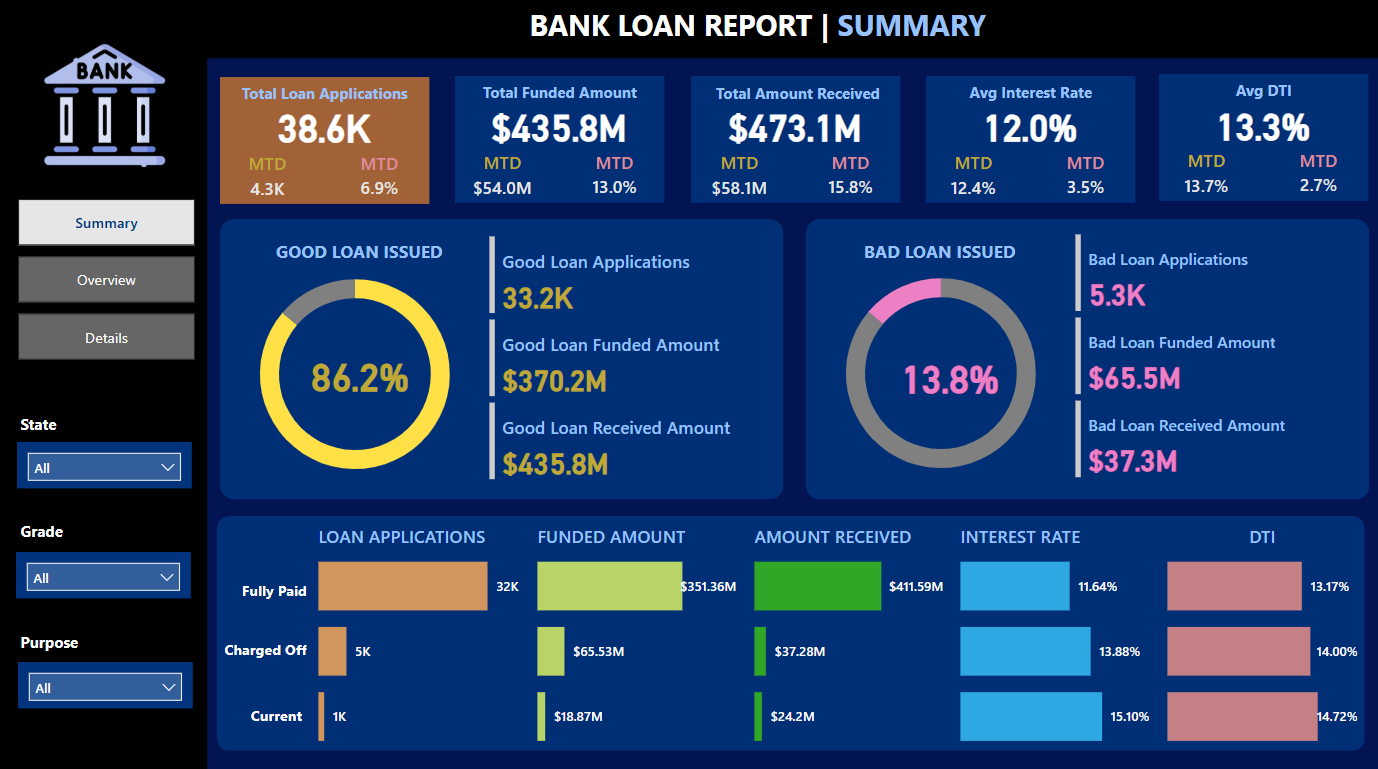

The page's visual inventory and layout, read from the dashboard file:
{"tool":"powerbi","page":{"name":"Summary","canvas":[1280,720],"ordinal":0},"visuals":[{"type":"shape","box":[1074,69.9,194.2,117.6],"z":0,"group":"g5"},{"type":"shape","box":[857.6,71,194.2,117.6],"z":0,"group":"g4"},{"type":"shape","box":[421.8,71.5,194.2,117.6],"z":0,"group":"g2"},{"type":"shape","box":[640.2,71.5,194.2,117.6],"z":0,"group":"g3"},{"type":"shape","box":[203.9,72.1,194.2,117.6],"z":0,"group":"g1"},{"type":"textbox","box":[14,478,104.7,34.9],"z":0,"group":"g7"},{"type":"shape","box":[201.3,479.4,1063.6,217.6],"z":0},{"type":"textbox","box":[13.6,581.2,83.8,32.6],"z":0,"group":"g8"},{"type":"shape","box":[0,54.9,192.3,664.7],"z":1000},{"type":"card","fields":{"Values":["public bank_loan.Total Funded Amount"]},"box":[420.9,88.7,194.3,55.9],"z":1000,"group":"g2"},{"type":"card","fields":{"Values":["public bank_loan.Total Amount Received"]},"box":[639.3,88.7,194.3,55.9],"z":1000,"group":"g3"},{"type":"card","fields":{"Values":["public bank_loan.Avg Interest Rate"]},"box":[856.7,88.7,194.3,55.9],"z":1000,"group":"g4"},{"type":"card","fields":{"Values":["public bank_loan.Total Loan Applications"]},"box":[203,88.8,194.4,56.7],"z":1000,"group":"g1"},{"type":"card","fields":{"Values":["public bank_loan.Avg DTI"]},"box":[1073.1,88.8,194.3,55.9],"z":1000,"group":"g5"},{"type":"slicer","fields":{"Values":["public bank_loan.grade"]},"box":[15.1,512.6,161.7,43.1],"z":1000,"group":"g7"},{"type":"slicer","fields":{"Values":["public bank_loan.purpose"]},"box":[16.3,614.4,161.7,43.1],"z":1000,"group":"g8"},{"type":"textbox","box":[1073.6,70,194.2,29.8],"z":2000,"group":"g5"},{"type":"textbox","box":[857.2,71.1,194.2,29.8],"z":2000,"group":"g4"},{"type":"textbox","box":[421.4,71.6,194.2,29.8],"z":2000,"group":"g2"},{"type":"textbox","box":[638,72,201.7,29.9],"z":2000,"group":"g3"},{"type":"textbox","box":[203.5,72.2,194.2,29.8],"z":2000,"group":"g1"},{"type":"shape","box":[203.7,203.4,522.2,260],"z":2000},{"type":"card","title":"MTD","fields":{"Values":["public bank_loan.MTD DTI"]},"box":[1081.8,139.8,72.9,46.2],"z":3000,"group":"g5"},{"type":"card","title":"MTD","fields":{"Values":["public bank_loan.MTD Interest Rate"]},"box":[865.4,140.9,72.9,46.2],"z":3000,"group":"g4"},{"type":"card","title":"MTD","fields":{"Values":["public bank_loan.MTD Funded Amount"]},"box":[429.6,141.4,72.9,46.2],"z":3000,"group":"g2"},{"type":"card","title":"MTD","fields":{"Values":["public bank_loan.MTD Amount Received"]},"box":[648.1,141.4,72.9,46.2],"z":3000,"group":"g3"},{"type":"card","title":"MTD","fields":{"Values":["public bank_loan.MTD Loan Applications"]},"box":[211.7,142,72.9,46.2],"z":3000,"group":"g1"},{"type":"donutChart","fields":{"Category":["public bank_loan.Good vs Bad Loan"],"Y":["public bank_loan.Total Loan Applications"]},"box":[203.7,232.3,250,230],"z":3000},{"type":"textbox","box":[14,379.2,83.8,32.6],"z":3000,"group":"g6"},{"type":"card","title":"MTD","fields":{"Values":["public bank_loan.MoM Avg DTI"]},"box":[1184.8,139.7,73.3,46.5],"z":4000,"group":"g5"},{"type":"card","title":"MTD","fields":{"Values":["public bank_loan.MoM Avg Interest Rate"]},"box":[968.4,140.8,73.3,46.5],"z":4000,"group":"g4"},{"type":"card","title":"MTD","fields":{"Values":["public bank_loan.MoM Funded Amount"]},"box":[532.6,141.3,73.3,46.5],"z":4000,"group":"g2"},{"type":"card","title":"MTD","fields":{"Values":["public bank_loan.MoM Amount Received"]},"box":[751,141.3,73.3,46.5],"z":4000,"group":"g3"},{"type":"card","title":"MTD","fields":{"Values":["public bank_loan.MoM Loan Application"]},"box":[314.7,141.9,73.3,46.5],"z":4000,"group":"g1"},{"type":"textbox","box":[201.3,534.1,88.4,37.2],"z":4000},{"type":"shape","box":[0,0,1280,54.9],"z":5000},{"type":"textbox","box":[233.9,217.6,199,41.9],"z":6000},{"type":"textbox","box":[387.3,214.7,11.3,29.8],"z":7000},{"type":"group","id":"g1","title":"Group 1","box":[203,72.1,195.1,117.6],"z":8000},{"type":"group","id":"g2","title":"Group 1","box":[420.9,71.5,195.1,117.6],"z":9000},{"type":"card","fields":{"Values":["public bank_loan.Good Loan %"]},"box":[236.2,320,194.3,55.9],"z":10000},{"type":"textbox","box":[485.9,0,450,58.6],"z":11000},{"type":"group","id":"g3","title":"Group 1","box":[638,71.5,201.7,117.6],"z":12000},{"type":"group","id":"g4","title":"Group 1","box":[856.7,71,195.1,117.6],"z":13000},{"type":"group","id":"g5","title":"Group 1","box":[1073.1,69.9,195.1,117.6],"z":14000},{"type":"shape","box":[747.1,203.4,522.2,260],"z":15000},{"type":"cardVisual","fields":{"Data":["public bank_loan.Good Loan Applications","public bank_loan.Good Loan Funded Amount","public bank_loan.Good Loan Received Amount"]},"box":[448.2,214.6,273.3,236.7],"z":16000},{"type":"donutChart","fields":{"Category":["public bank_loan.Good vs Bad Loan"],"Y":["public bank_loan.Total Loan Applications"]},"box":[747.1,231.2,250,230],"z":17000},{"type":"textbox","box":[773.8,217.6,194.3,41.9],"z":18000},{"type":"card","fields":{"Values":["public bank_loan.Bad Loan %"]},"box":[783.1,321.2,194.3,55.9],"z":19000},{"type":"cardVisual","fields":{"Data":["public bank_loan.Bad Loan Applications","public bank_loan.Bad Loan Funded Amount","public bank_loan.Bad Loan Received Amount"]},"box":[991.5,213.4,273.3,236.7],"z":20000},{"type":"textbox","box":[223.9,482.6,196.9,29.9],"z":21000},{"type":"group","id":"g6","title":"Group 2","box":[14,379.2,164,74.6],"z":22000},{"type":"group","id":"g7","title":"Group 3","box":[14,478,162.9,77.6],"z":23000},{"type":"group","id":"g8","title":"Group 4","box":[13.6,581.2,164.4,76.2],"z":24000},{"type":"image","box":[30.9,33.8,133.2,129.3],"z":25000},{"type":"slicer","fields":{"Values":["public bank_loan.address_state"]},"box":[16.3,410.8,161.7,43.1],"z":25000,"group":"g6"},{"type":"pageNavigator","box":[16.4,184.9,164.4,150],"z":26000},{"type":"barChart","title":"LOAN APPLICATIONS","fields":{"Y":["public bank_loan.Total Loan Applications"],"Category":["public bank_loan.loan_status"]},"box":[289.7,487.6,196.7,208.3],"z":27000},{"type":"barChart","title":"FUNDED AMOUNT","fields":{"Category":["public bank_loan.loan_status"],"Y":["public bank_loan.Total Funded Amount"]},"box":[492.8,487.6,194.3,208.3],"z":28000},{"type":"barChart","title":"AMOUNT RECEIVED","fields":{"Y":["public bank_loan.Total Amount Received"],"Category":["public bank_loan.loan_status"]},"box":[693.6,487.6,185,208.3],"z":29000},{"type":"barChart","title":"INTEREST RATE","fields":{"Category":["public bank_loan.loan_status"],"Y":["public bank_loan.Avg Interest Rate"]},"box":[885.1,487.6,185,208.3],"z":30000},{"type":"barChart","title":"DTI","fields":{"Category":["public bank_loan.loan_status"],"Y":["public bank_loan.Avg DTI"]},"box":[1076.5,487.6,186.2,208.3],"z":31000},{"type":"textbox","box":[201.3,588.8,88.4,37.2],"z":31001},{"type":"textbox","box":[201.3,649.3,83.8,37.2],"z":31002}]}

Visuals, with their boxes in screenshot pixels (x1, y1, x2, y2), scaled from the page's 1280x720 canvas onto the 1378x769 screenshot:
shape: [x1=1156, y1=75, x2=1365, y2=200]
shape: [x1=923, y1=76, x2=1132, y2=201]
shape: [x1=454, y1=76, x2=663, y2=202]
shape: [x1=689, y1=76, x2=898, y2=202]
shape: [x1=220, y1=77, x2=429, y2=203]
textbox: [x1=15, y1=511, x2=128, y2=548]
shape: [x1=217, y1=512, x2=1362, y2=744]
textbox: [x1=15, y1=621, x2=105, y2=656]
shape: [x1=0, y1=59, x2=207, y2=768]
card - public bank_loan.Total Funded Amount: [x1=453, y1=95, x2=662, y2=154]
card - public bank_loan.Total Amount Received: [x1=688, y1=95, x2=897, y2=154]
card - public bank_loan.Avg Interest Rate: [x1=922, y1=95, x2=1131, y2=154]
card - public bank_loan.Total Loan Applications: [x1=219, y1=95, x2=428, y2=155]
card - public bank_loan.Avg DTI: [x1=1155, y1=95, x2=1364, y2=155]
slicer - public bank_loan.grade: [x1=16, y1=547, x2=190, y2=594]
slicer - public bank_loan.purpose: [x1=18, y1=656, x2=192, y2=702]
textbox: [x1=1156, y1=75, x2=1365, y2=107]
textbox: [x1=923, y1=76, x2=1132, y2=108]
textbox: [x1=454, y1=76, x2=663, y2=108]
textbox: [x1=687, y1=77, x2=904, y2=109]
textbox: [x1=219, y1=77, x2=428, y2=109]
shape: [x1=219, y1=217, x2=781, y2=495]
"MTD" card: [x1=1165, y1=149, x2=1243, y2=199]
"MTD" card: [x1=932, y1=150, x2=1010, y2=200]
"MTD" card: [x1=462, y1=151, x2=541, y2=200]
"MTD" card: [x1=698, y1=151, x2=776, y2=200]
"MTD" card: [x1=228, y1=152, x2=306, y2=201]
donutChart - public bank_loan.Good vs Bad Loan x public bank_loan.Total Loan Applications: [x1=219, y1=248, x2=488, y2=494]
textbox: [x1=15, y1=405, x2=105, y2=440]
"MTD" card: [x1=1276, y1=149, x2=1354, y2=199]
"MTD" card: [x1=1043, y1=150, x2=1121, y2=200]
"MTD" card: [x1=573, y1=151, x2=652, y2=201]
"MTD" card: [x1=808, y1=151, x2=887, y2=201]
"MTD" card: [x1=339, y1=152, x2=418, y2=201]
textbox: [x1=217, y1=570, x2=312, y2=610]
shape: [x1=0, y1=0, x2=1377, y2=59]
textbox: [x1=252, y1=232, x2=466, y2=277]
textbox: [x1=417, y1=229, x2=429, y2=261]
"Group 1" group: [x1=219, y1=77, x2=429, y2=203]
"Group 1" group: [x1=453, y1=76, x2=663, y2=202]
card - public bank_loan.Good Loan %: [x1=254, y1=342, x2=463, y2=401]
textbox: [x1=523, y1=0, x2=1008, y2=63]
"Group 1" group: [x1=687, y1=76, x2=904, y2=202]
"Group 1" group: [x1=922, y1=76, x2=1132, y2=201]
"Group 1" group: [x1=1155, y1=75, x2=1365, y2=200]
shape: [x1=804, y1=217, x2=1366, y2=495]
cardVisual - public bank_loan.Good Loan Applications x public bank_loan.Good Loan Funded Amount: [x1=483, y1=229, x2=777, y2=482]
donutChart - public bank_loan.Good vs Bad Loan x public bank_loan.Total Loan Applications: [x1=804, y1=247, x2=1073, y2=493]
textbox: [x1=833, y1=232, x2=1042, y2=277]
card - public bank_loan.Bad Loan %: [x1=843, y1=343, x2=1052, y2=403]
cardVisual - public bank_loan.Bad Loan Applications x public bank_loan.Bad Loan Funded Amount: [x1=1067, y1=228, x2=1362, y2=481]
textbox: [x1=241, y1=515, x2=453, y2=547]
"Group 2" group: [x1=15, y1=405, x2=192, y2=485]
"Group 3" group: [x1=15, y1=511, x2=190, y2=593]
"Group 4" group: [x1=15, y1=621, x2=192, y2=702]
image: [x1=33, y1=36, x2=177, y2=174]
slicer - public bank_loan.address_state: [x1=18, y1=439, x2=192, y2=485]
pageNavigator: [x1=18, y1=197, x2=195, y2=358]
"LOAN APPLICATIONS" barChart: [x1=312, y1=521, x2=524, y2=743]
"FUNDED AMOUNT" barChart: [x1=531, y1=521, x2=740, y2=743]
"AMOUNT RECEIVED" barChart: [x1=747, y1=521, x2=946, y2=743]
"INTEREST RATE" barChart: [x1=953, y1=521, x2=1152, y2=743]
"DTI" barChart: [x1=1159, y1=521, x2=1359, y2=743]
textbox: [x1=217, y1=629, x2=312, y2=669]
textbox: [x1=217, y1=693, x2=307, y2=733]
